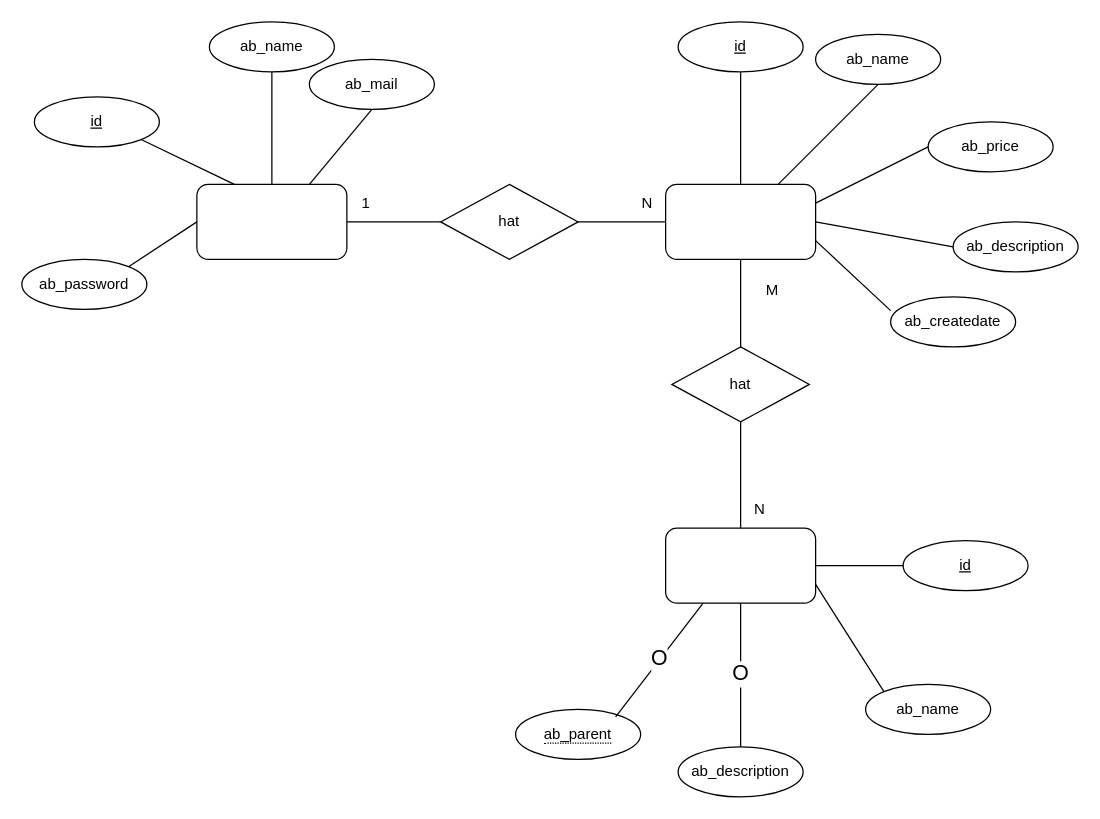
Image size: 1100x819. Some labels were removed from this diagram. Here are the shapes that lost their labels. From the top down, the box of each, then its label:
(196, 183, 347, 259): ab_user
(664, 183, 816, 259): ab_article
(664, 527, 816, 603): ab_articlecatagory
